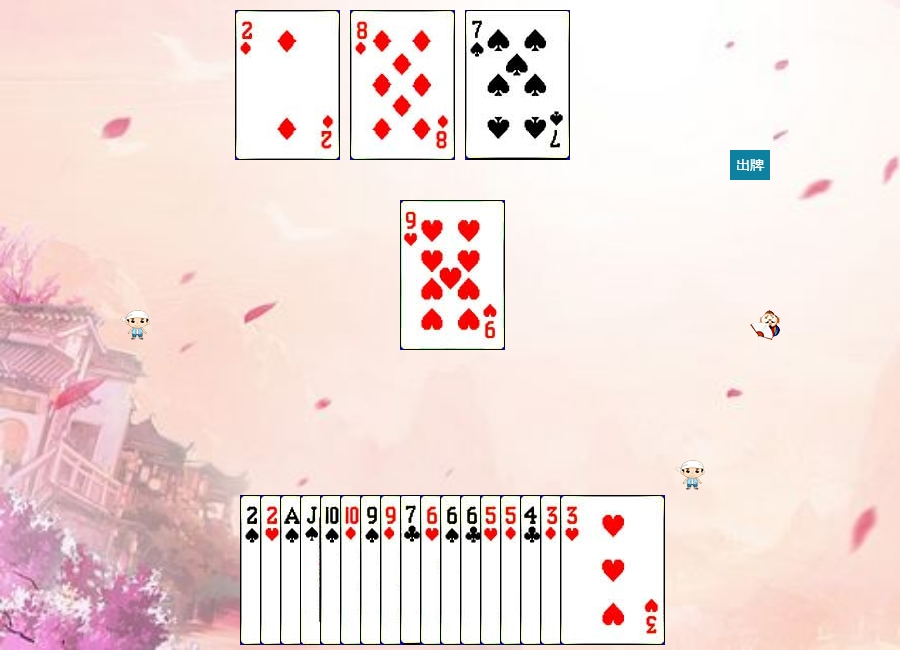10~1: (340, 495, 445, 645)
10~4: (320, 495, 425, 645)
11~4: (300, 495, 405, 645)
14~4: (280, 495, 385, 645)
15~1: (235, 10, 340, 160)
15~3: (260, 495, 365, 645)
15~4: (240, 495, 345, 645)
3~1: (540, 495, 645, 645)
3~3: (560, 495, 665, 645)
4~2: (520, 495, 625, 645)
5~1: (500, 495, 605, 645)
5~3: (480, 495, 585, 645)
6~2: (460, 495, 565, 645)
6~3: (420, 495, 525, 645)
6~4: (440, 495, 545, 645)
7~2: (400, 495, 505, 645)
7~4: (465, 10, 570, 160)
8~1: (350, 10, 455, 160)
9~1: (380, 495, 485, 645)
9~3: (400, 200, 505, 350)
9~4: (360, 495, 465, 645)
